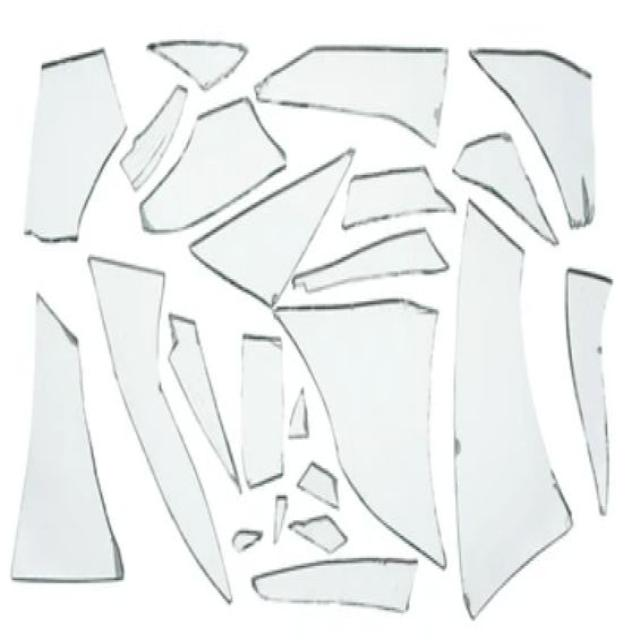electronic: (14, 34, 618, 618)
